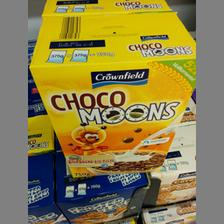Cerealien: (28, 14, 196, 177)
